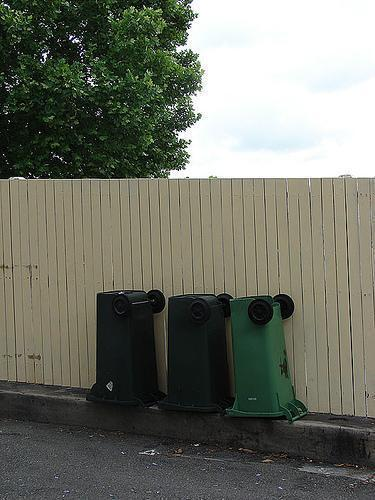Bote de Basura: (229, 296, 309, 421), (82, 287, 163, 409), (158, 292, 228, 413)
